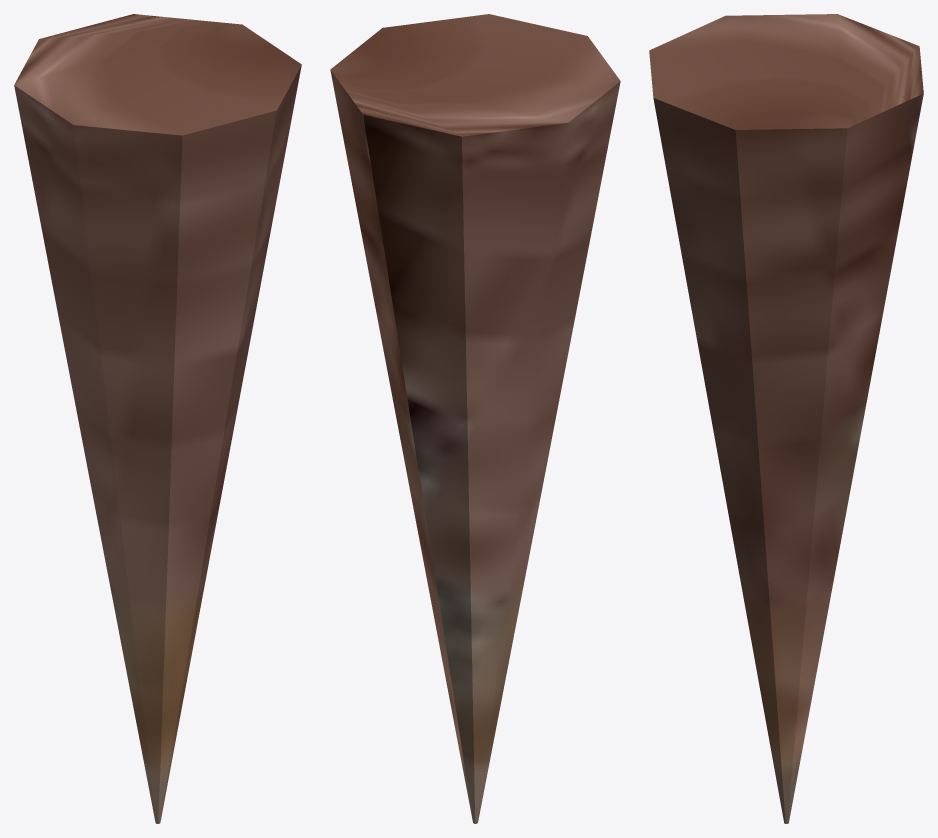
Rendered from Estalactite.fbx.
The picture shows the model from 3 angles, left to right: view 1: azimuth 30°, elevation 25°; view 2: azimuth 150°, elevation 25°; view 3: azimuth 270°, elevation 25°; orthographic projection.
Parts seen in each view (by area): view 1: Cylinder.028; view 2: Cylinder.028; view 3: Cylinder.028.
Boxes of the visible parts, <box> form: Cylinder.028: <box>14,14,301,823</box>; Cylinder.028: <box>330,14,620,823</box>; Cylinder.028: <box>649,14,923,823</box>.
Size of the model in its own units: 4.2 by 12.67 by 4.2.
